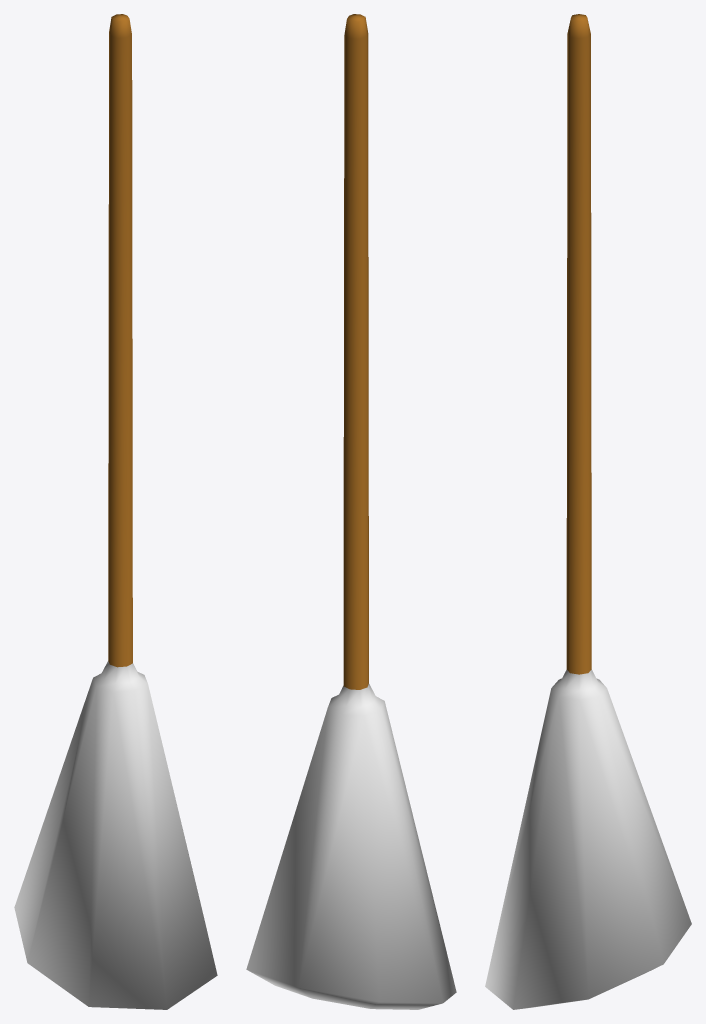
Rendered from MOP.fbx.
3 renders of one model, left to right at view 1: azimuth 30°, elevation 25°; view 2: azimuth 150°, elevation 25°; view 3: azimuth 270°, elevation 25°, orthographic. The views are drawn at different scales.
Parts seen in each view (by area): view 1: Mop; view 2: Mop; view 3: Mop.
Boxes of the visible parts, bbox=[...] form: Mop: bbox=[14, 14, 217, 1009]; Mop: bbox=[246, 14, 456, 1009]; Mop: bbox=[485, 14, 691, 1009].
Bounding box in the file's own units: 47.6 × 247 × 47.6.
